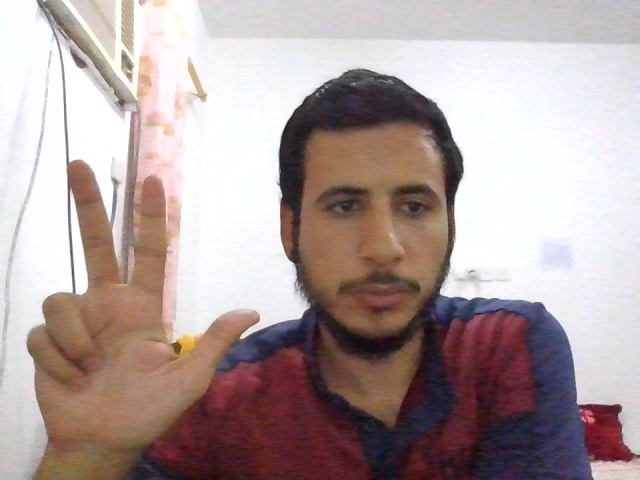Three: (28, 160, 260, 452)
